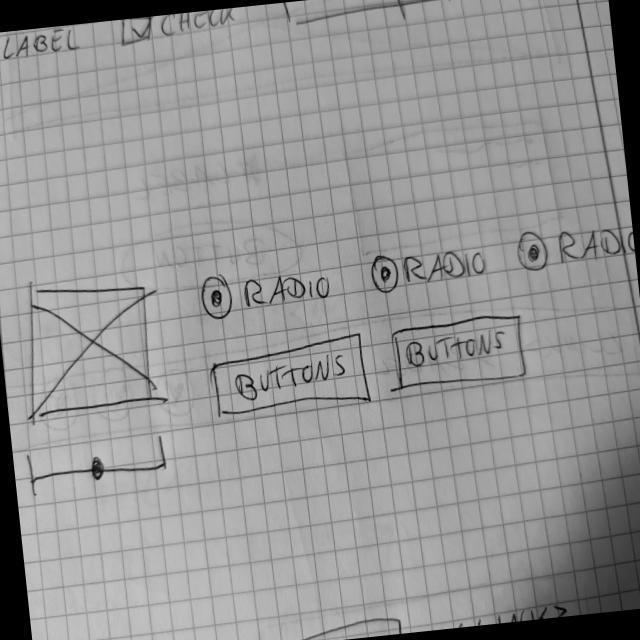button: (207, 330, 375, 429), (387, 311, 531, 396)
checkbox: (119, 8, 243, 51)
image: (13, 274, 163, 429)
label: (1, 24, 86, 66)
link: (446, 599, 573, 630)
radio: (197, 263, 240, 325), (511, 216, 553, 275), (368, 241, 402, 299)
slider: (26, 435, 174, 501)
